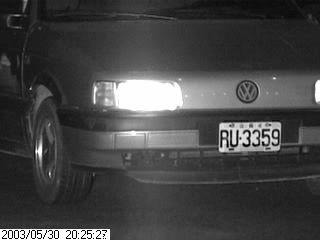plate: (216, 118, 284, 153)
